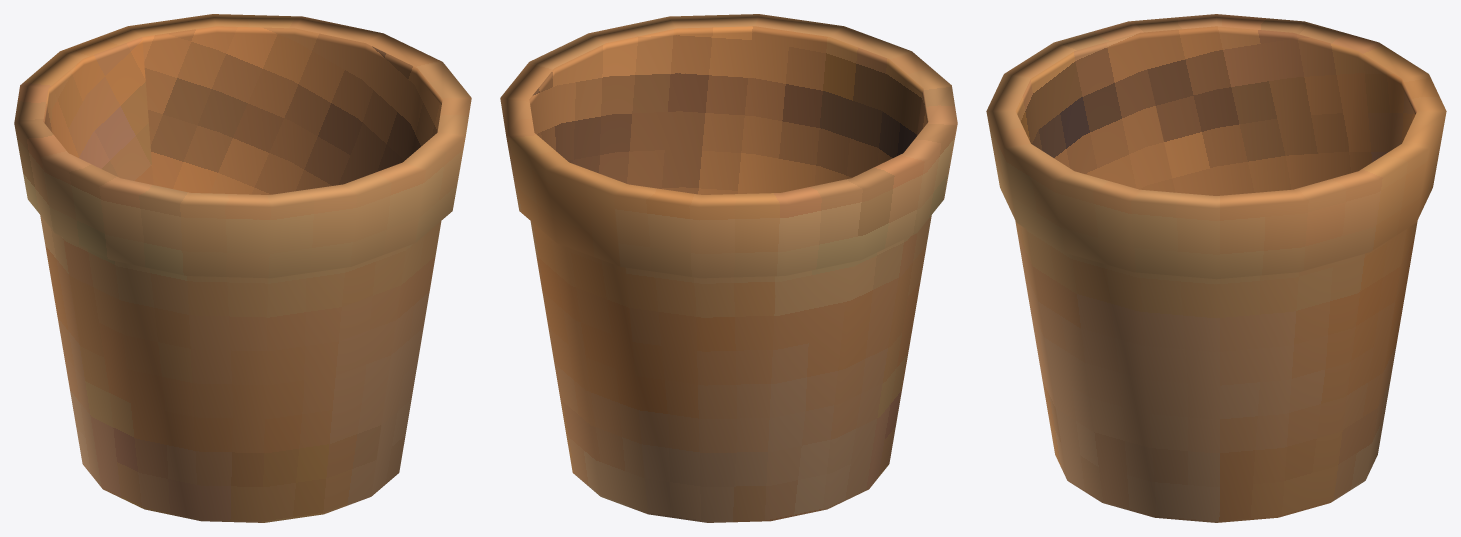
The model's file is objects_un_t01flowerpots02.gltf.
3 renders of one model, left to right at view 1: azimuth 30°, elevation 25°; view 2: azimuth 150°, elevation 25°; view 3: azimuth 270°, elevation 25°, orthographic.
Visible parts, largest first — view 1: objects_un_t01flowerpots02_mesh_shape:objects_un_t01flowerpo; view 2: objects_un_t01flowerpots02_mesh_shape:objects_un_t01flowerpo; view 3: objects_un_t01flowerpots02_mesh_shape:objects_un_t01flowerpo.
Part boxes in pixels (x1,y1,x2,y2): objects_un_t01flowerpots02_mesh_shape:objects_un_t01flowerpo: (14,14,471,522); objects_un_t01flowerpots02_mesh_shape:objects_un_t01flowerpo: (500,14,957,522); objects_un_t01flowerpots02_mesh_shape:objects_un_t01flowerpo: (986,14,1446,522).
Size of what is drawn, in the model's own units: 0.3747 by 0.3087 by 0.3747.
1 material, 1 textured.
